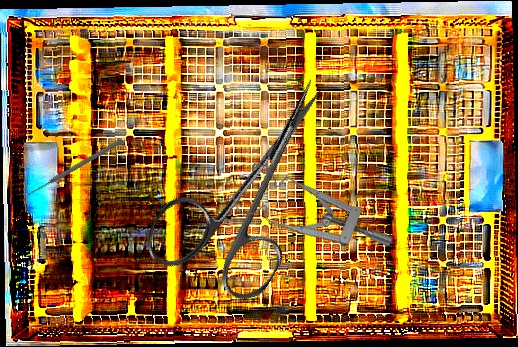Iris Scissors: (138, 48, 370, 316)
Pusher: (25, 136, 125, 199)
Speculum: (221, 131, 398, 305)
